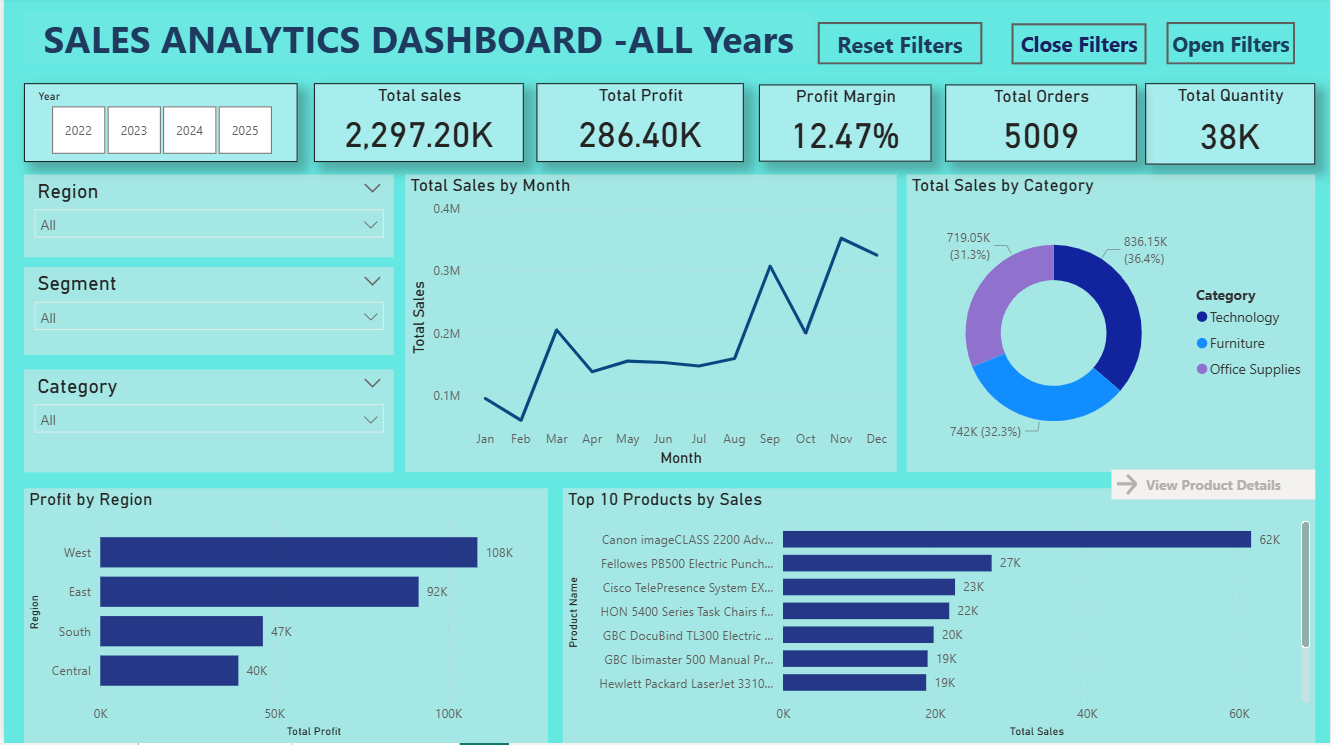

The page's visual inventory and layout, read from the dashboard file:
{"tool":"powerbi","page":{"name":"Sales Overview","canvas":[1280,720],"ordinal":0},"visuals":[{"type":"slicer","fields":{"Values":["DateTable.Year"]},"box":[19.3,83.2,264.2,76],"z":0,"group":"g1"},{"type":"card","title":"Total sales","fields":{"Values":["Sales.Total Sales"]},"box":[299.2,83.2,202.7,76],"z":0},{"type":"card","title":"Total Profit","fields":{"Values":["Sales.Total Profit"]},"box":[513.9,83.2,200.3,76],"z":1000},{"type":"slicer","fields":{"Values":["Sales.Region"]},"box":[19.3,171.3,357.1,79.6],"z":1000,"group":"g1"},{"type":"card","title":"Profit Margin","fields":{"Values":["Sales.Profit Margin %"]},"box":[728.7,84.5,166.5,74.8],"z":2000},{"type":"slicer","fields":{"Values":["Sales.Segment"]},"box":[19.3,260.5,357.1,84.5],"z":2000,"group":"g1"},{"type":"card","title":"Total Orders","fields":{"Values":["Sales.Total Orders"]},"box":[908.6,84.4,184.6,74.6],"z":3000},{"type":"slicer","fields":{"Values":["Sales.Category"]},"box":[19.3,359.5,357.1,98.9],"z":3000,"group":"g1"},{"type":"card","title":"Total Quantity","fields":{"Values":["Sales.Total Quantity"]},"box":[1101.8,83.2,163.9,78.3],"z":4000},{"type":"lineChart","fields":{"Category":["DateTable.Month"],"Y":["Sales.Total Sales"]},"box":[387.3,171.3,474.1,287.1],"z":5000},{"type":"donutChart","fields":{"Category":["Sales.Category"],"Y":["Sales.Total Sales"]},"box":[871.1,171.3,394.5,287.1],"z":6000},{"type":"clusteredBarChart","title":"Profit by Region","fields":{"Category":["Sales.Region"],"Y":["Sales.Total Profit"]},"box":[19.3,474.1,505.5,246.1],"z":7000},{"type":"card","fields":{"Values":["DateTable.Selected Year Title"]},"box":[19.3,15.7,762.5,48.3],"z":8000},{"type":"clusteredBarChart","title":"Top 10 Products by Sales","fields":{"Category":["Sales.Product Name"],"Y":["Sales.Total Sales"]},"box":[539.3,474.1,726.3,246.1],"z":9000},{"type":"actionButton","title":"Reset Filters","box":[785.7,23.6,158.9,41],"z":10000},{"type":"group","id":"g1","title":"Filters Panel","box":[19.3,83.2,357.1,375.2],"z":11000},{"type":"actionButton","box":[971.9,24.8,130.3,39.7],"z":12000},{"type":"actionButton","box":[1122.1,23.6,124.1,41],"z":13000},{"type":"actionButton","box":[1068.9,456,196.6,29],"z":14000}]}

Visuals, with their boxes in screenshot pixels (x1, y1, x2, y2), scaled from the page's 1280x720 canvas onto the 1331x745 screenshot:
slicer - DateTable.Year: x1=20, y1=86, x2=295, y2=165
"Total sales" card: x1=311, y1=86, x2=522, y2=165
"Total Profit" card: x1=534, y1=86, x2=743, y2=165
slicer - Sales.Region: x1=20, y1=177, x2=391, y2=260
"Profit Margin" card: x1=758, y1=87, x2=931, y2=165
slicer - Sales.Segment: x1=20, y1=270, x2=391, y2=357
"Total Orders" card: x1=945, y1=87, x2=1137, y2=165
slicer - Sales.Category: x1=20, y1=372, x2=391, y2=474
"Total Quantity" card: x1=1146, y1=86, x2=1316, y2=167
lineChart - DateTable.Month x Sales.Total Sales: x1=403, y1=177, x2=896, y2=474
donutChart - Sales.Category x Sales.Total Sales: x1=906, y1=177, x2=1316, y2=474
"Profit by Region" clusteredBarChart: x1=20, y1=491, x2=546, y2=744
card - DateTable.Selected Year Title: x1=20, y1=16, x2=813, y2=66
"Top 10 Products by Sales" clusteredBarChart: x1=561, y1=491, x2=1316, y2=744
"Reset Filters" actionButton: x1=817, y1=24, x2=982, y2=67
"Filters Panel" group: x1=20, y1=86, x2=391, y2=474
actionButton: x1=1011, y1=26, x2=1146, y2=67
actionButton: x1=1167, y1=24, x2=1296, y2=67
actionButton: x1=1111, y1=472, x2=1316, y2=502
